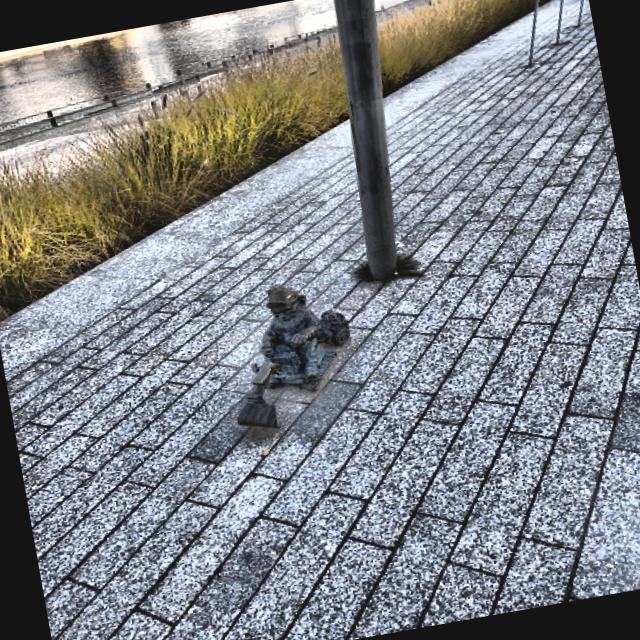Koparkus: (237, 286, 349, 426)
